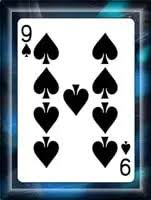nine of spades: (17, 18, 135, 182)
